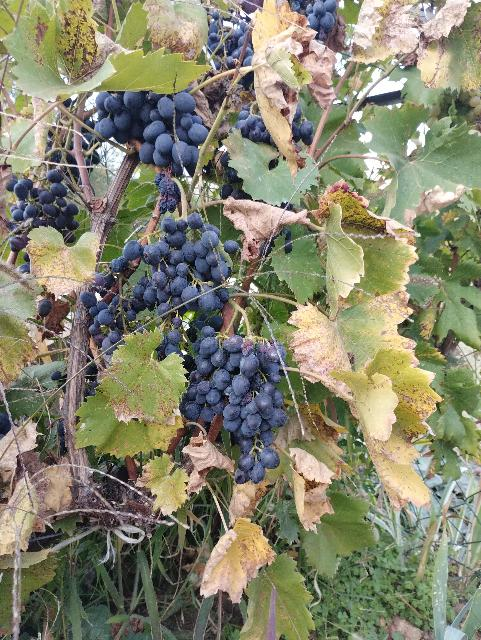grapes: (214, 335, 288, 485), (132, 212, 230, 318), (180, 325, 242, 424)
